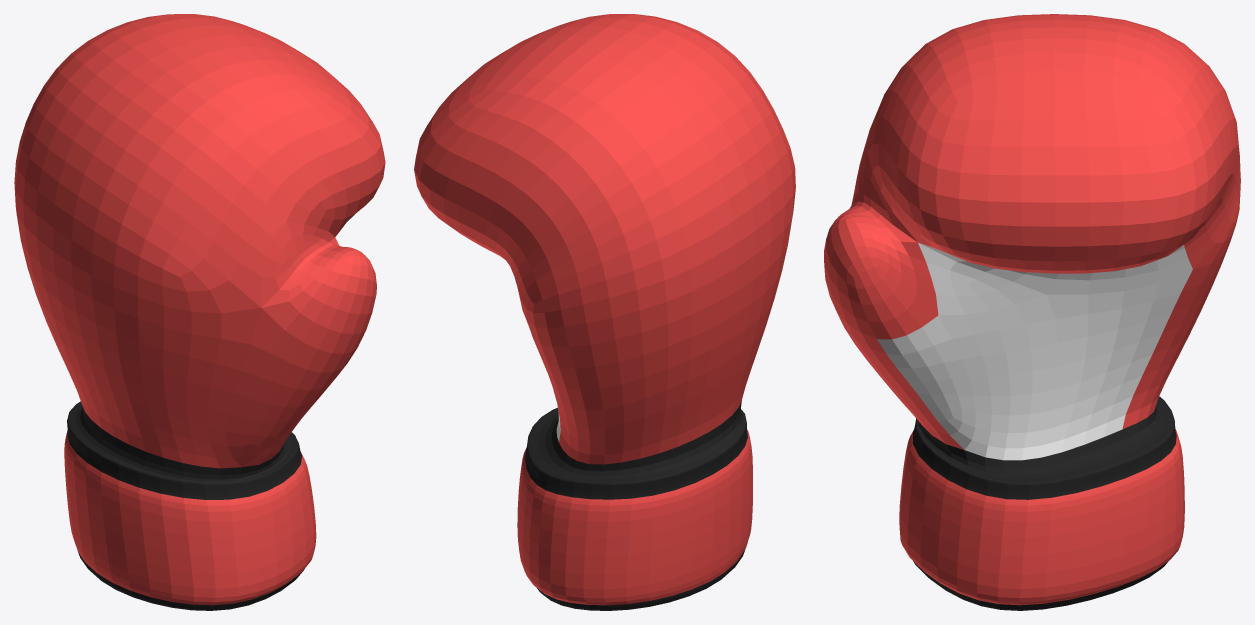
File: gloveLeft.gltf
3 views of the same model, side by side, from view 1: azimuth 30°, elevation 25°; view 2: azimuth 150°, elevation 25°; view 3: azimuth 270°, elevation 25° (orthographic). The views are drawn at different scales.
Parts seen in each view (by area): view 1: Boxing Glove.002; view 2: Boxing Glove.002; view 3: Boxing Glove.002.
Part boxes in pixels (left/top/right/bottom): Boxing Glove.002: left=14, top=14, right=385, bottom=610; Boxing Glove.002: left=414, top=14, right=795, bottom=610; Boxing Glove.002: left=824, top=14, right=1240, bottom=610.
Bounding box in the file's own units: 0.4645 × 0.7762 × 0.5404.
Materials: 1 (1 with a texture image).
